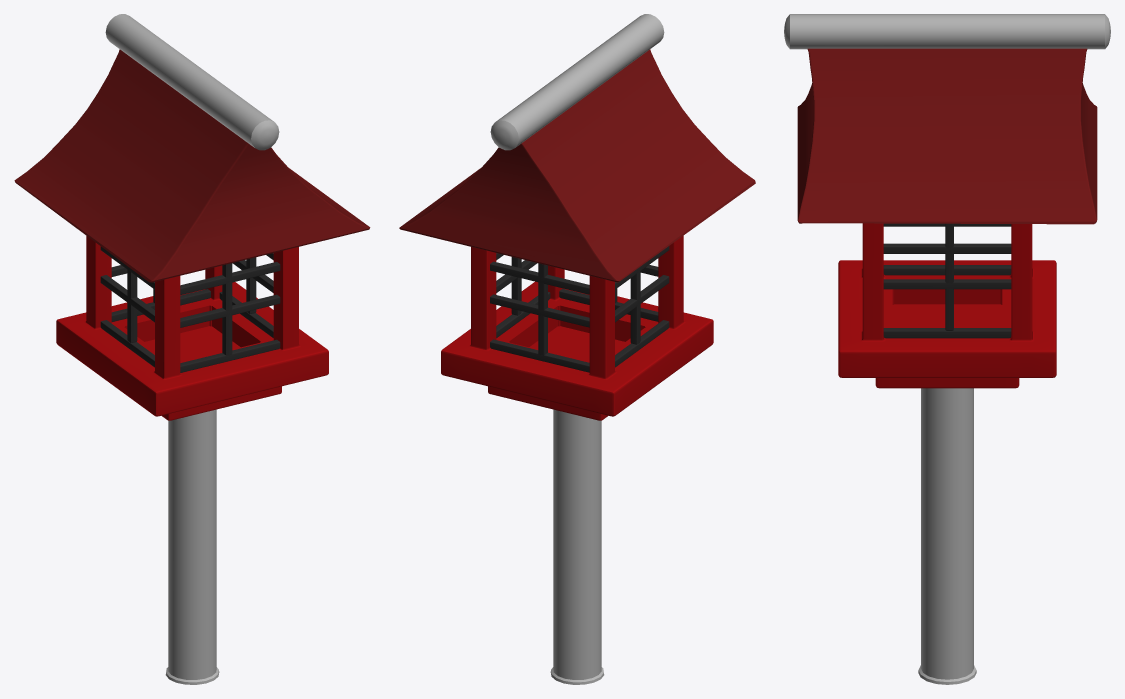
File: nsei.fbx
3 renders of one model, left to right at view 1: azimuth 30°, elevation 25°; view 2: azimuth 150°, elevation 25°; view 3: azimuth 270°, elevation 25°, orthographic. The views are drawn at different scales.
Parts seen in each view (by area): view 1: pCube24; view 2: pCube24; view 3: pCube24.
Boxes of the visible parts, box(x1,y1,x2,y2) form: pCube24: box(14, 14, 370, 684); pCube24: box(399, 14, 755, 684); pCube24: box(784, 14, 1110, 684).
Size of the model in its own units: 79.7 by 208 by 94.
